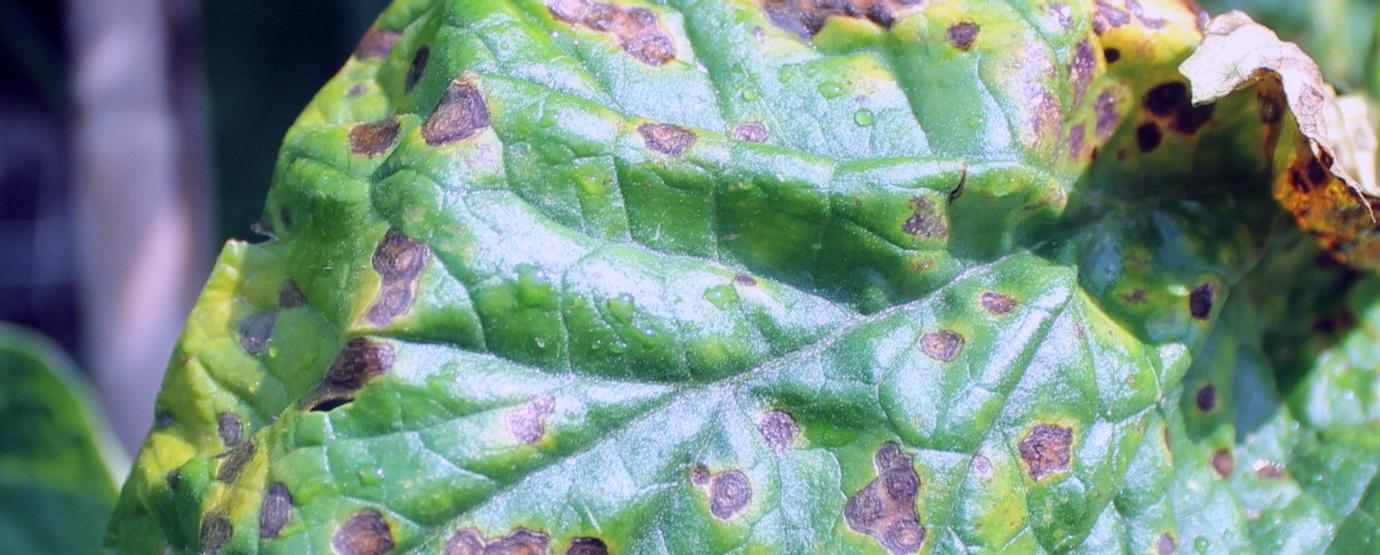Tomato Septoria leaf spot: (21, 0, 1380, 555)
